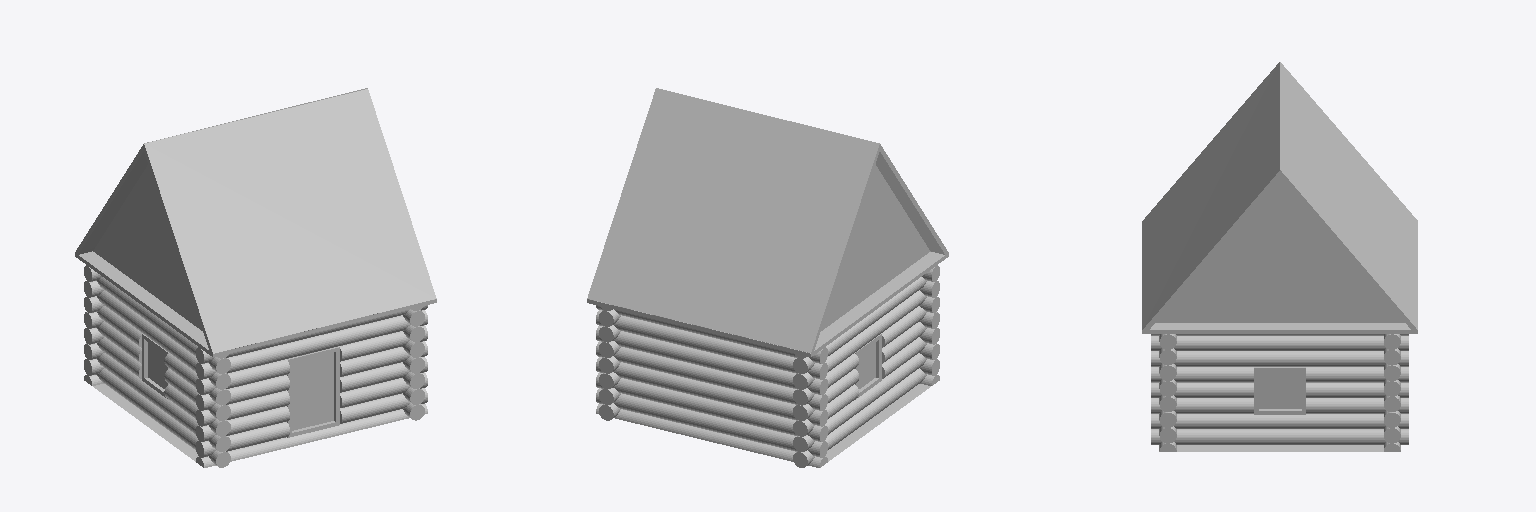
The model's file is house.obj.
3 views of the same model, side by side, from view 1: azimuth 30°, elevation 25°; view 2: azimuth 150°, elevation 25°; view 3: azimuth 270°, elevation 25° (orthographic).
Visible parts, largest first — view 1: Cube.013_Cube.016; view 2: Cube.013_Cube.016; view 3: Cube.013_Cube.016.
Boxes of the visible parts, box(x1,y1,x2,y2) form: Cube.013_Cube.016: box(75, 88, 436, 467); Cube.013_Cube.016: box(587, 88, 948, 467); Cube.013_Cube.016: box(1142, 62, 1417, 451).
Bounding box in the file's own units: 6 × 7.22 × 6.41.